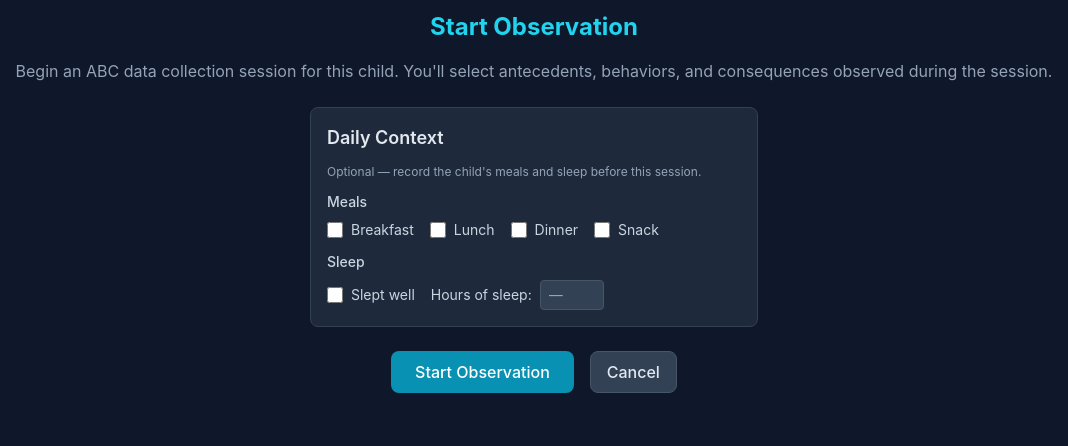
ObservationPage › shows error when start observation fails
The width and height of the screenshot is (1068, 446).
What coordinates should you click on to do the following:
click the button "Start Observation"
I would click on:
 (482, 372)
Its box is [391, 351, 574, 393].
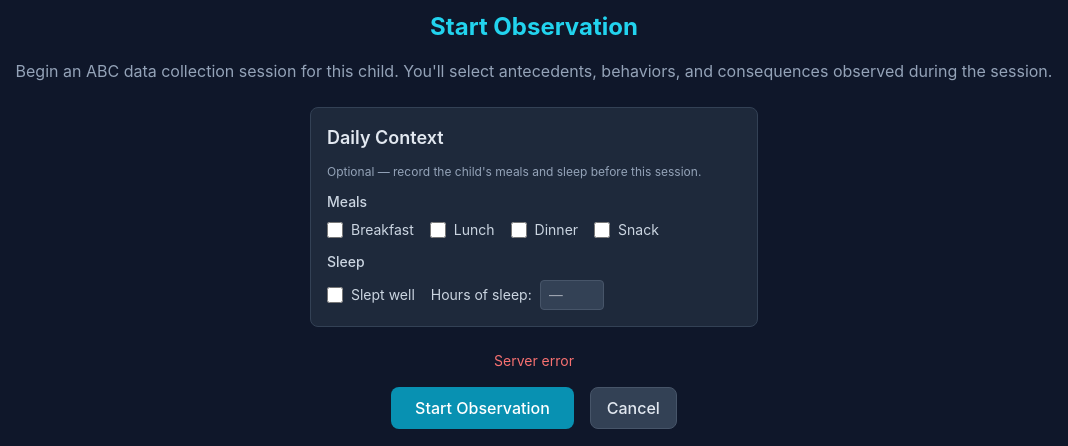
Result: the text "Server error" is shown at [494, 352, 574, 369]
